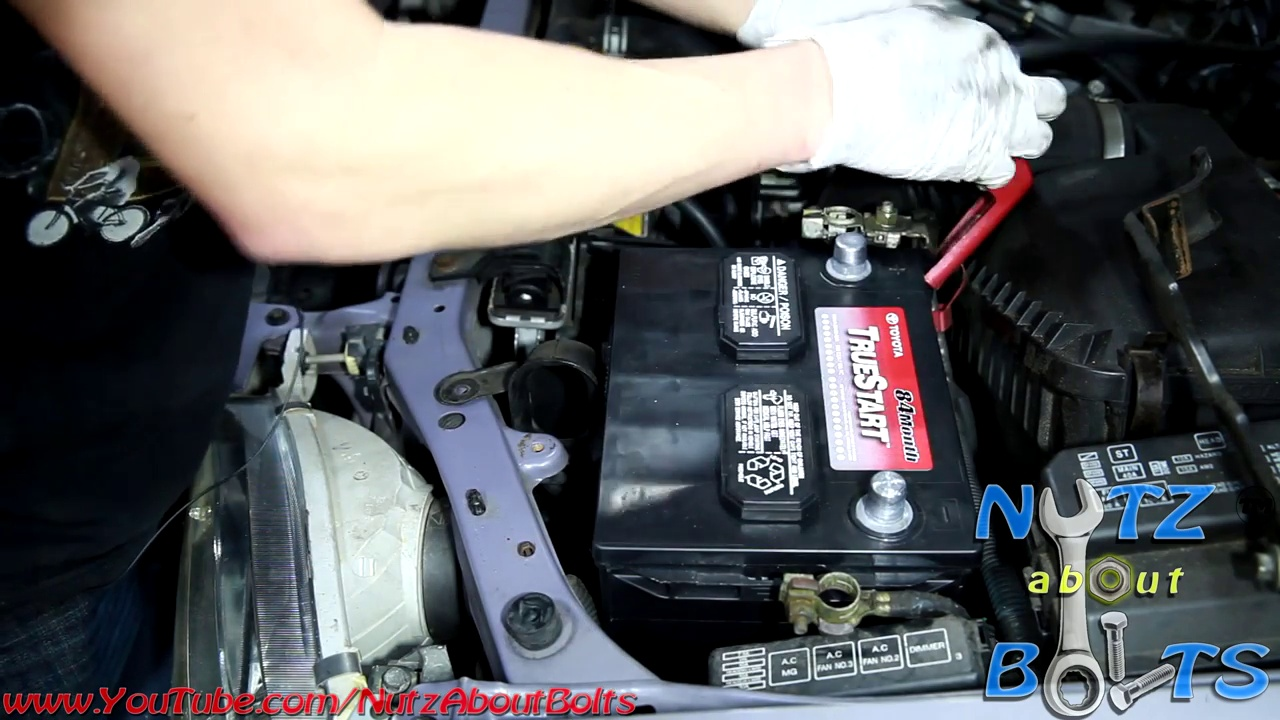battery: (603, 232, 958, 574)
neg_disconnected: (778, 467, 950, 634)
pos_disconnected: (800, 170, 1037, 292)
pos_touched: (802, 104, 1031, 288)
